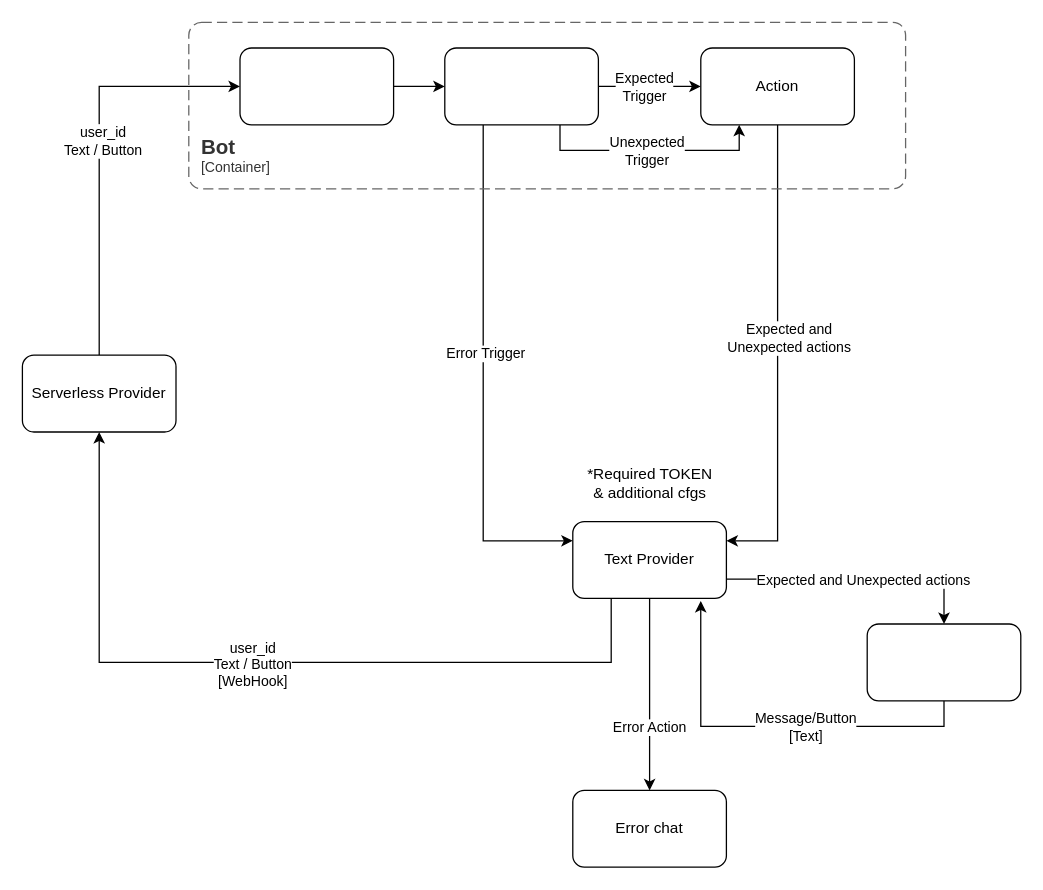
The diagram is 1043 pixels wide and 890 high, and some of its shapes have lost their labels. The box of each missing label's shape, as (x1, y1, x2, y2) in pixels:
Bot Logic: (444, 47, 598, 125)
Trigger: (239, 47, 394, 125)
User: (866, 623, 1021, 701)
